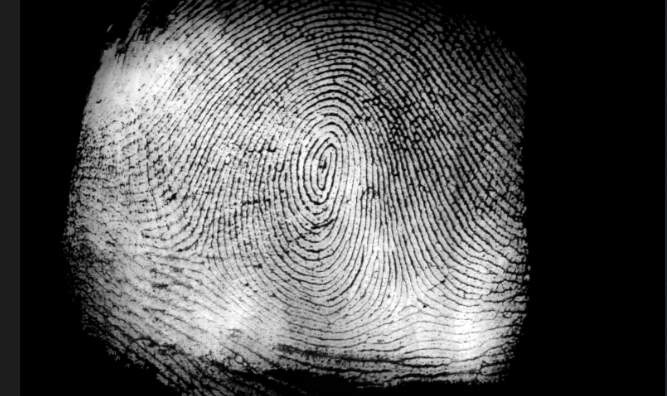nucelo: (311, 137, 338, 201)
verticilo: (390, 290, 424, 311), (187, 248, 216, 269)
